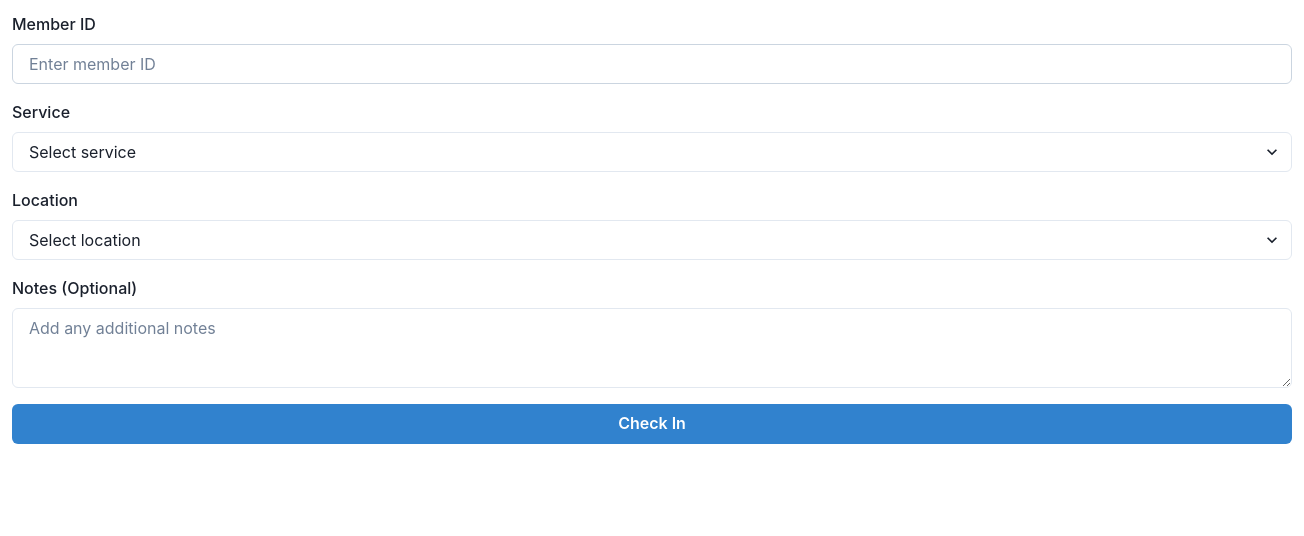
Test: CheckInForm › shows validation errors for required fields
Click the button "Check In" at (652, 424), box [12,404,1292,444]
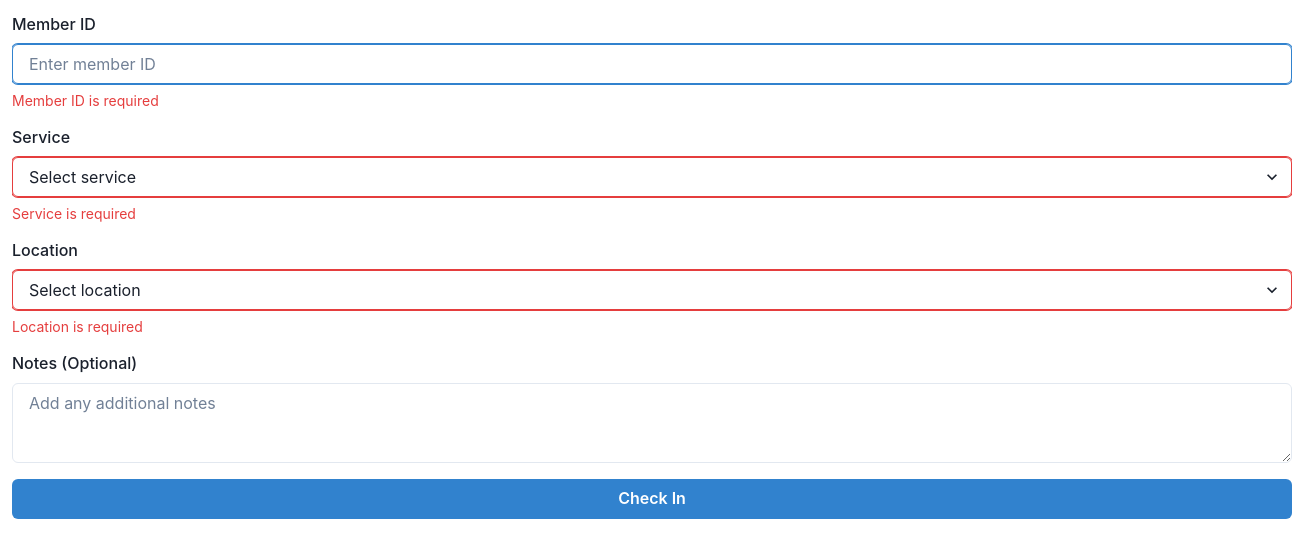
Expected: the text "Member ID is required" is shown, [12,92,159,109]
Expected: the text "Service is required" is shown, [12,205,136,222]
Expected: the text "Location is required" is shown, [12,318,143,335]
